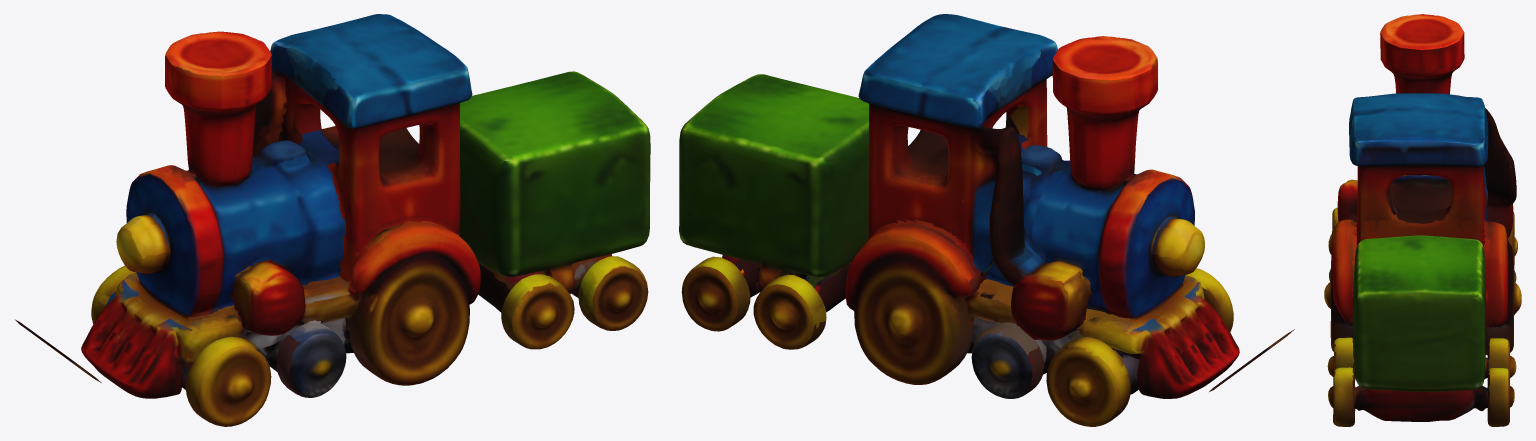
File: Toy_train.glb
The picture shows the model from 3 angles, left to right: view 1: azimuth 30°, elevation 25°; view 2: azimuth 150°, elevation 25°; view 3: azimuth 270°, elevation 25°; orthographic projection. The views are drawn at different scales.
Parts seen in each view (by area): view 1: tmpdqmyij_b.ply; view 2: tmpdqmyij_b.ply; view 3: tmpdqmyij_b.ply.
Boxes of the visible parts, <box> form: tmpdqmyij_b.ply: <box>15,14,650,426</box>; tmpdqmyij_b.ply: <box>679,14,1294,426</box>; tmpdqmyij_b.ply: <box>1324,14,1521,426</box>.
Bounding box in the file's own units: 1.99 × 1.13 × 0.7697.
Materials: 1 (1 with a texture image).
